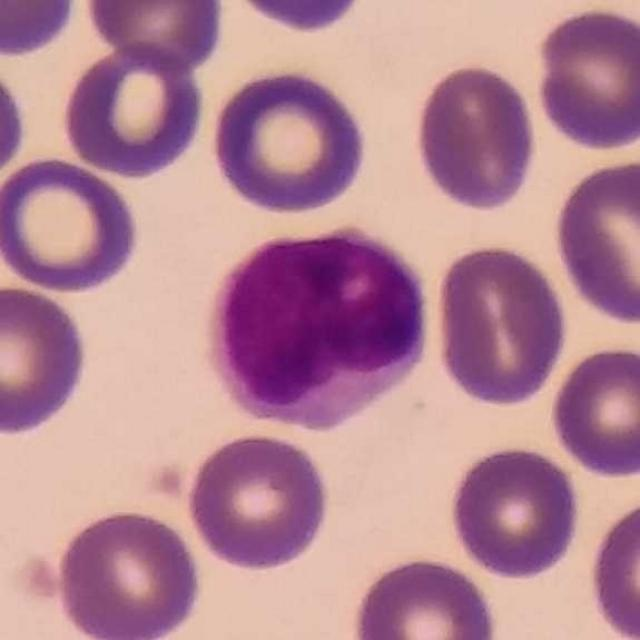Lymphocyte: (202, 220, 440, 434)
RBC: (205, 64, 373, 218), (430, 239, 572, 410), (184, 428, 334, 574), (58, 40, 209, 181), (52, 504, 206, 640), (0, 153, 145, 296), (410, 59, 541, 215), (446, 441, 586, 583), (530, 3, 640, 155), (550, 153, 640, 330), (0, 280, 92, 440), (348, 552, 501, 640), (546, 342, 640, 481), (84, 0, 229, 72), (585, 492, 640, 640), (220, 0, 378, 36), (0, 0, 82, 60), (0, 59, 30, 189)
